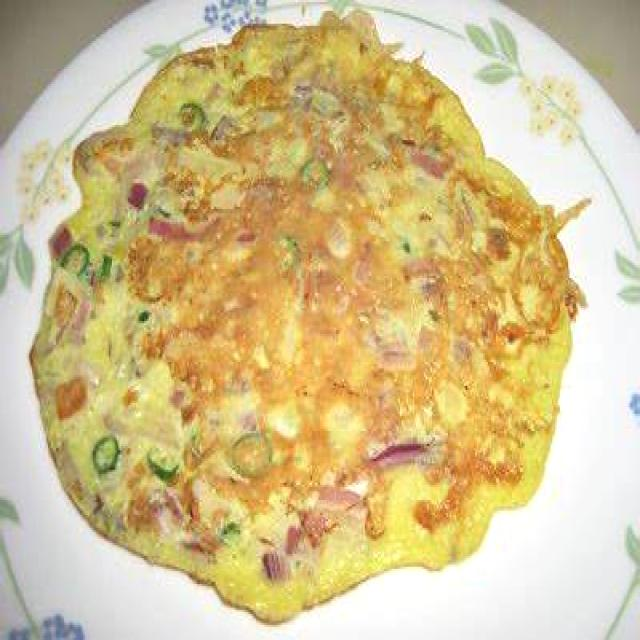telur dadar: (27, 6, 590, 627)
